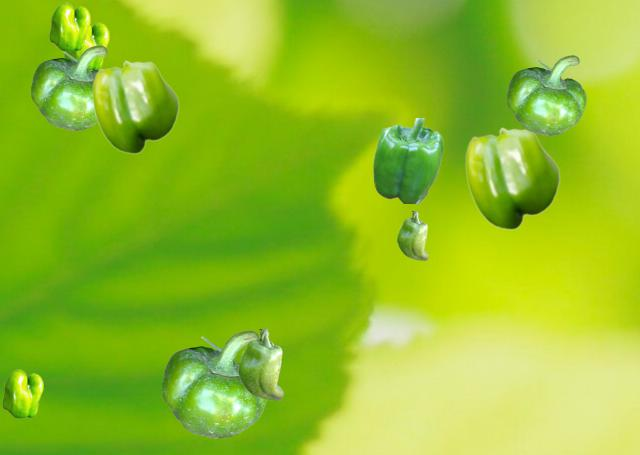bell_pepper: (162, 330, 267, 437), (465, 127, 559, 229), (92, 60, 178, 153), (31, 45, 107, 129), (507, 55, 585, 134), (373, 118, 442, 202), (238, 329, 282, 399), (64, 21, 108, 70), (2, 369, 42, 417), (49, 2, 89, 50), (397, 211, 427, 259)
